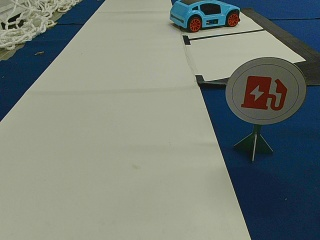battery: (227, 56, 305, 123)
car: (170, 1, 241, 30)
